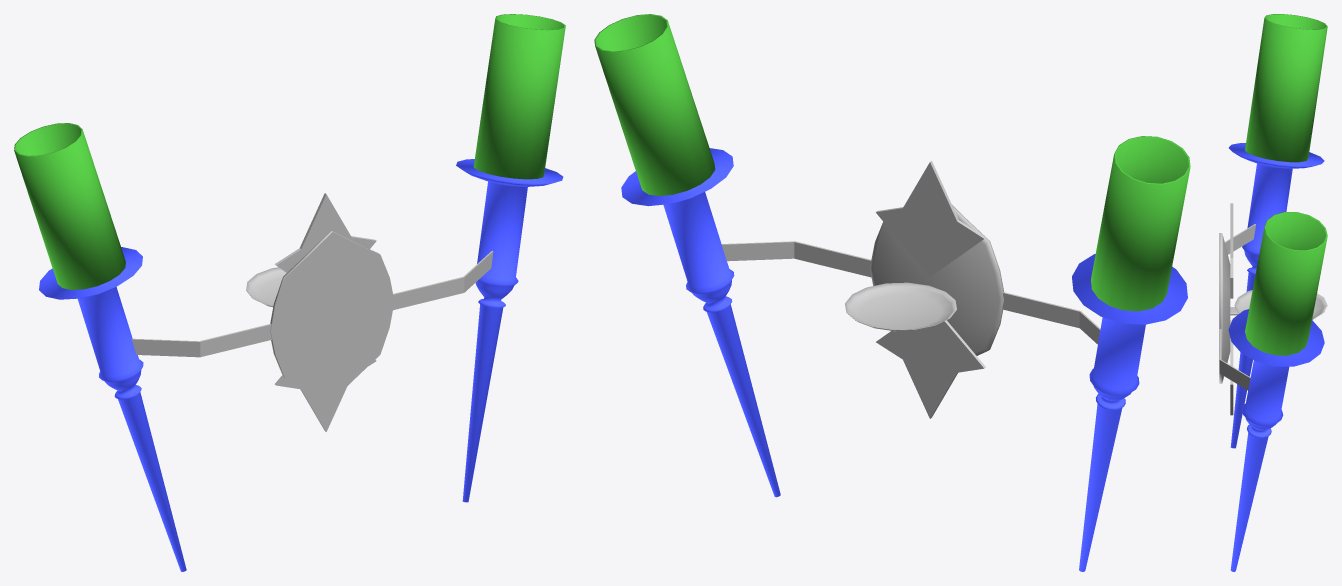
The model's file is Wall-Light-001.fbx.
The picture shows the model from 3 angles, left to right: view 1: azimuth 30°, elevation 25°; view 2: azimuth 150°, elevation 25°; view 3: azimuth 270°, elevation 25°; orthographic projection. The views are drawn at different scales.
Parts seen in each view (by area): view 1: Light-Shade, Handle, Wall-Plate.001, Arm-Right, Wall-Plate-Deco-002, Arm-Left, Wall-Plate-Deco-001, Candle-Holder; view 2: Light-Shade, Handle, Wall-Plate.001, Wall-Plate-Deco-002, Wall-Plate-Deco-001, Candle-Holder, Arm-Left, Arm-Right; view 3: Light-Shade, Handle, Wall-Plate.001, Candle-Holder, Arm-Left, Arm-Right, Wall-Plate-Deco-002, Wall-Plate-Deco-001.
Boxes of the visible parts, x1,y1,x2,y2 form: Light-Shade: (14, 14, 565, 289); Handle: (39, 159, 563, 571); Wall-Plate.001: (270, 230, 394, 400); Arm-Right: (131, 324, 271, 357); Wall-Plate-Deco-002: (274, 193, 376, 272); Arm-Left: (393, 251, 493, 310); Wall-Plate-Deco-001: (274, 360, 376, 431); Candle-Holder: (246, 267, 286, 307); Light-Shade: (594, 14, 1190, 311); Handle: (621, 148, 1187, 571); Wall-Plate.001: (870, 205, 1003, 355); Wall-Plate-Deco-002: (876, 160, 985, 276); Wall-Plate-Deco-001: (876, 320, 985, 418); Candle-Holder: (845, 282, 956, 331); Arm-Left: (721, 241, 871, 277); Arm-Right: (1002, 292, 1100, 344); Light-Shade: (1245, 14, 1327, 355); Handle: (1228, 143, 1324, 571); Wall-Plate.001: (1219, 233, 1230, 383); Candle-Holder: (1230, 290, 1327, 319); Arm-Left: (1219, 329, 1250, 390); Arm-Right: (1224, 224, 1255, 254); Wall-Plate-Deco-002: (1230, 203, 1233, 298); Wall-Plate-Deco-001: (1230, 320, 1233, 415).
Bounding box in the file's own units: 36.91 × 28.49 × 7.18.
